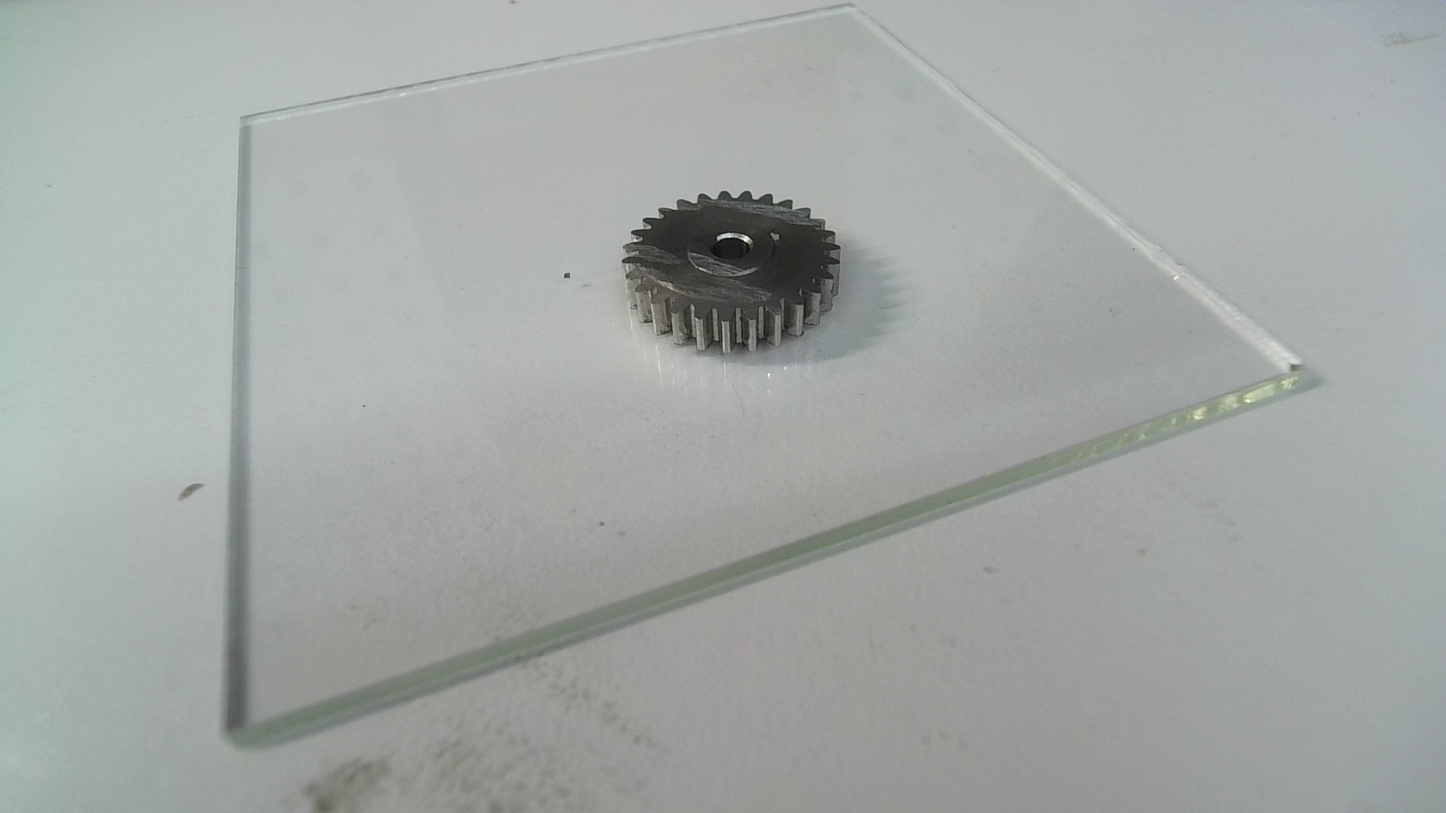gear: (619, 186, 844, 357)
